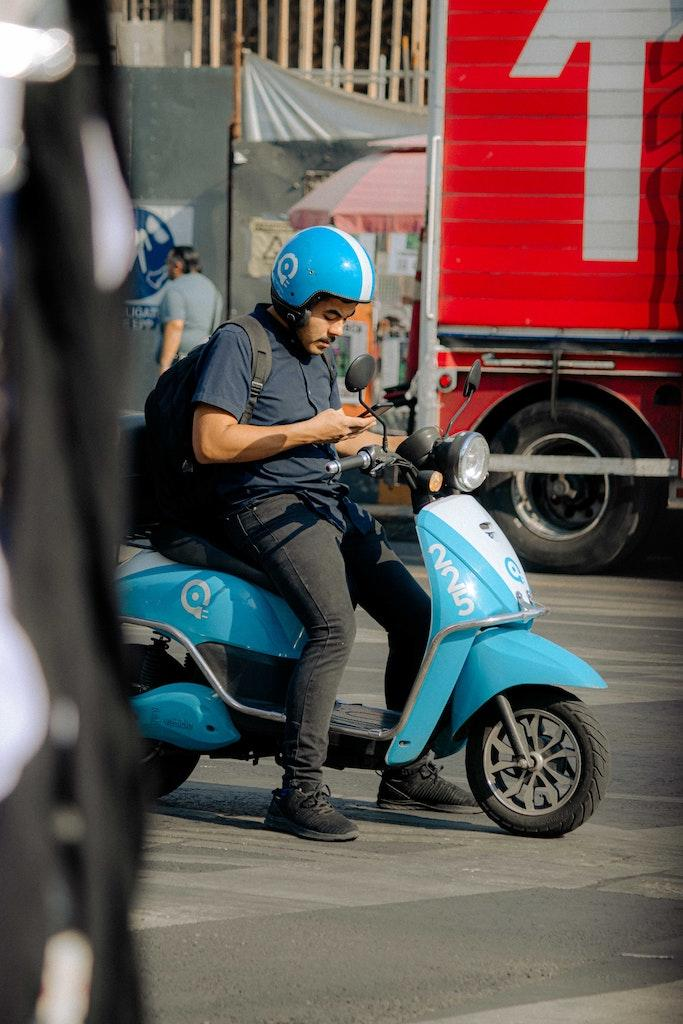helmet: (270, 224, 376, 356)
